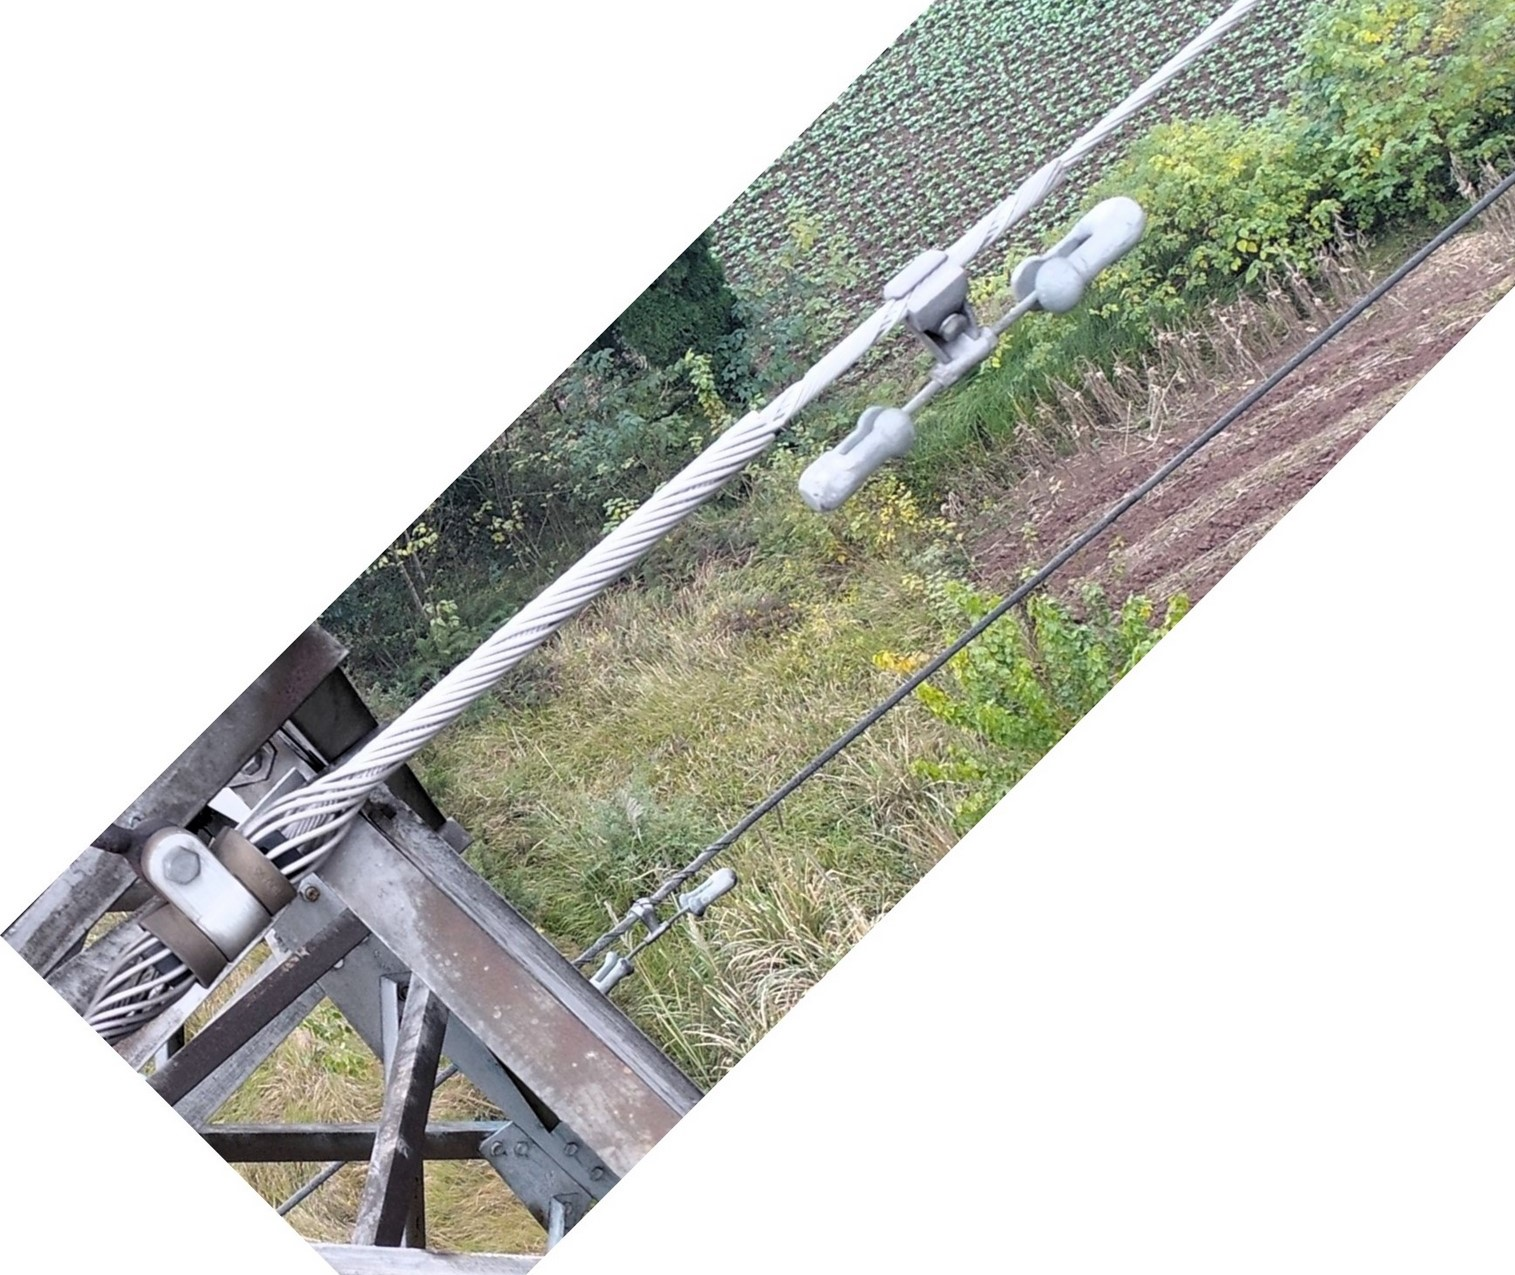Shockproof hammer: (763, 183, 1165, 531)
